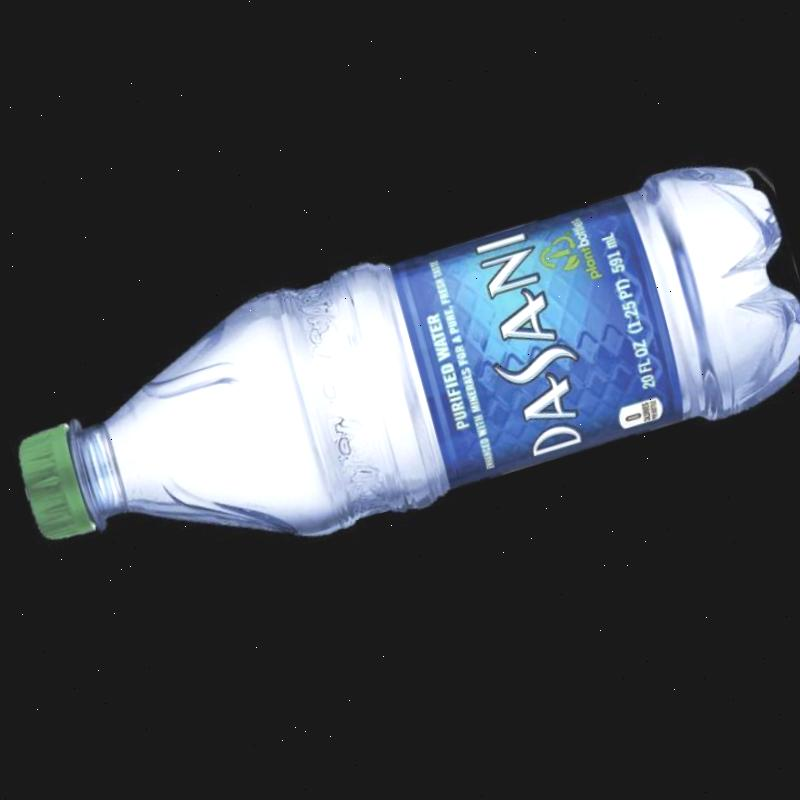botella: (3, 145, 800, 627)
